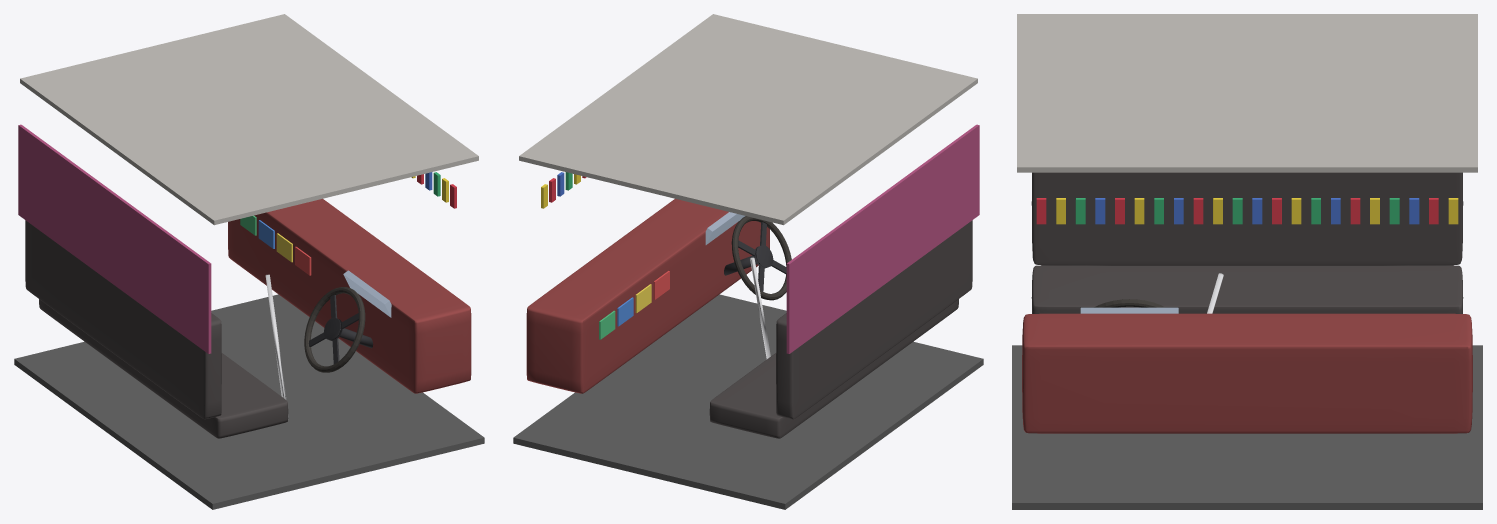
The model's file is interior_lorry.glb.
The picture shows the model from 3 angles, left to right: view 1: azimuth 30°, elevation 25°; view 2: azimuth 150°, elevation 25°; view 3: azimuth 270°, elevation 25°; orthographic projection. The views are drawn at different scales.
Visible parts, largest first — view 1: Cabin, SteeringWheel; view 2: Cabin, SteeringWheel; view 3: Cabin.
Part boxes in pixels (x1=…): Cabin: x1=14, y1=14, x2=484, y2=509; SteeringWheel: x1=304, y1=287, x2=365, y2=372; Cabin: x1=513, y1=14, x2=983, y2=509; SteeringWheel: x1=731, y1=216, x2=791, y2=300; Cabin: x1=1012, y1=14, x2=1482, y2=509.
Size of the model in its own units: 1.9 by 1.92 by 2.4.
